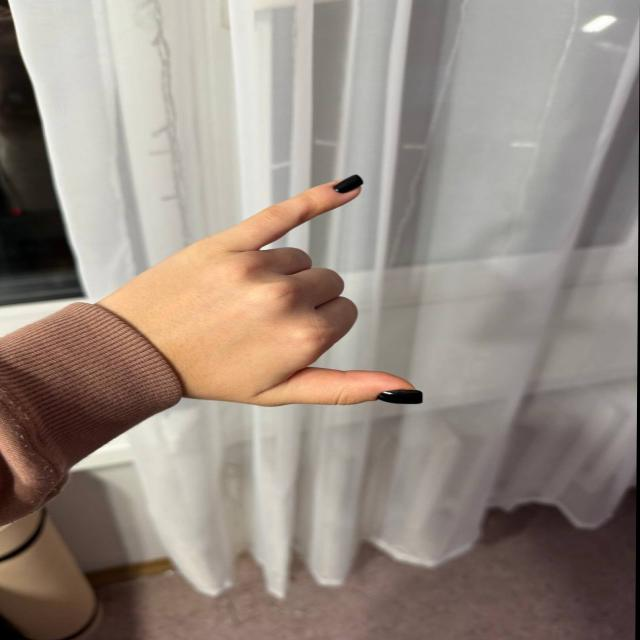u: (102, 156, 406, 416)
